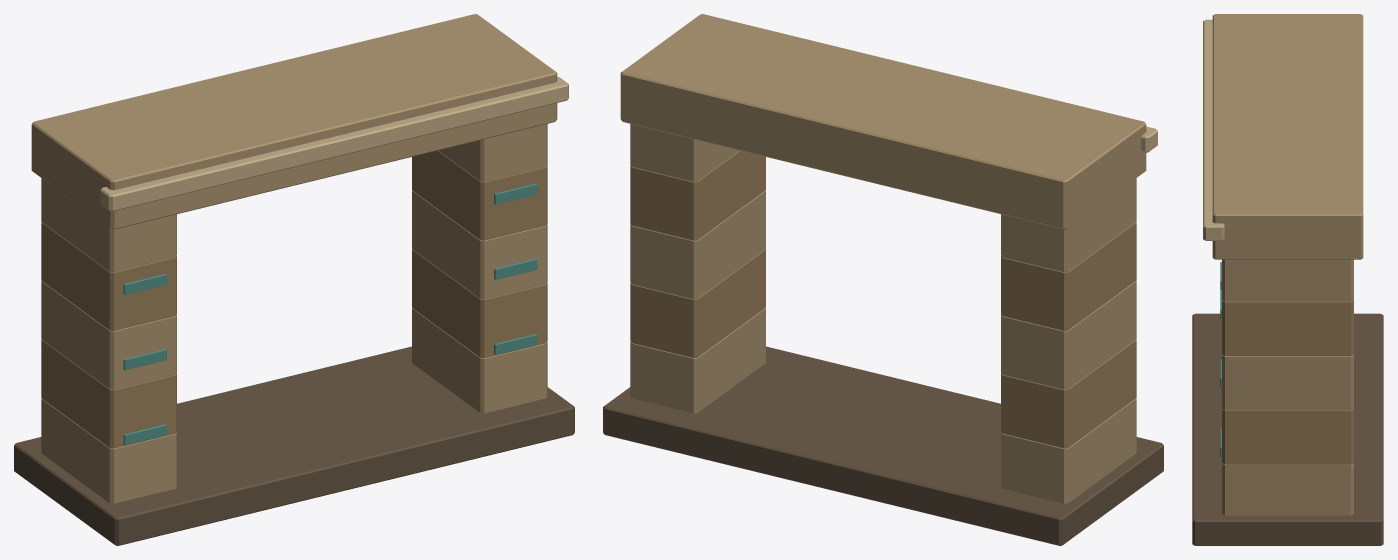
The model's file is tomb-gateway.glb.
3 views of the same model, side by side, from view 1: azimuth 30°, elevation 25°; view 2: azimuth 150°, elevation 25°; view 3: azimuth 270°, elevation 25° (orthographic). The views are drawn at different scales.
Parts seen in each view (by area): view 1: tomb-gateway__body; view 2: tomb-gateway__body; view 3: tomb-gateway__body.
Part boxes in pixels (x1,y1,x2,y2): tomb-gateway__body: (14, 14, 574, 545); tomb-gateway__body: (603, 14, 1163, 545); tomb-gateway__body: (1192, 14, 1383, 545).
Size of the model in its own units: 2.05 by 1.51 by 0.8.
